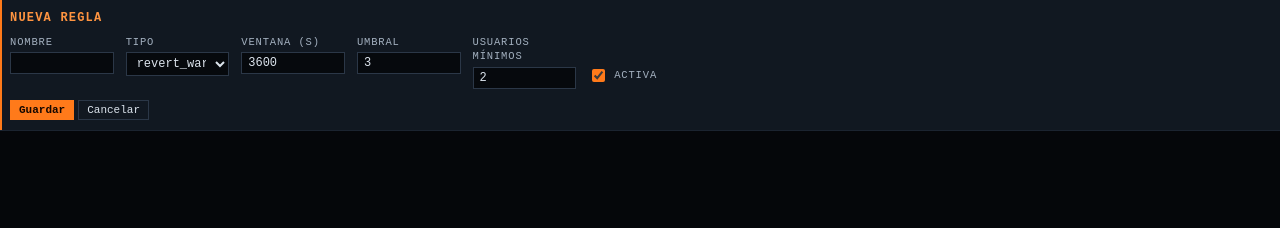
RuleForm › shows validation errors and does not submit
Replace the text in the number field labelled "Ventana (s)" with "5": (293, 64) [241,52,345,74]
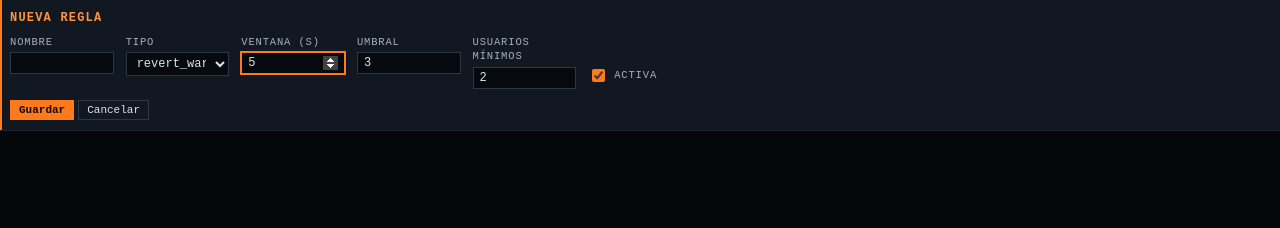
Replace the text in the number field labelled "Umbral" with "0": (409, 64) [357,52,460,74]
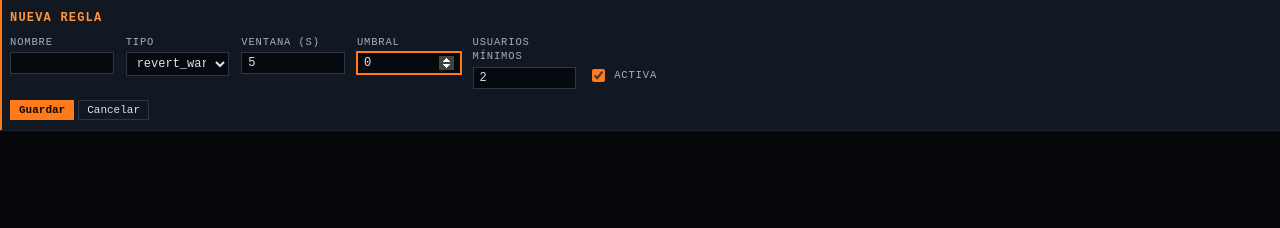
Clear the number field labelled "Usuarios mínimos": (524, 78) [472,67,576,89]
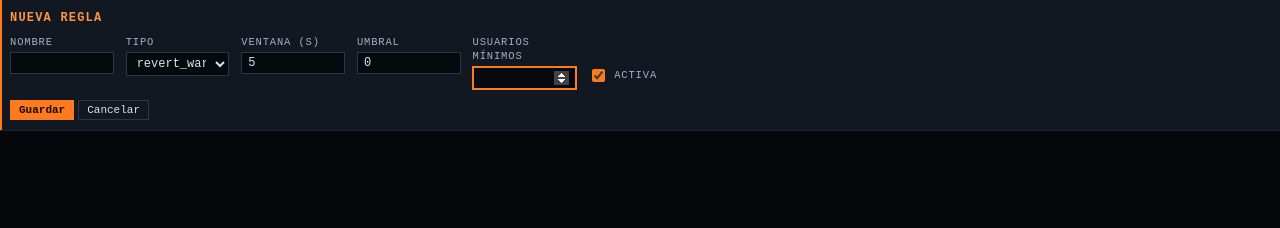
Click the button "Guardar": (42, 110) [10,100,74,120]
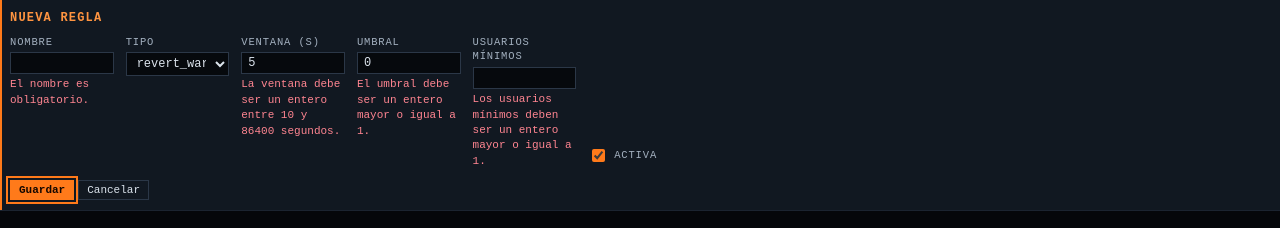
Result: the text "El nombre es obligatorio." is shown at [10,78,89,106]
Result: the text "La ventana debe ser un entero entre 10 y 86400 segundos." is shown at [241,78,345,139]
Result: the text "El umbral debe ser un entero mayor o igual a 1." is shown at [357,78,460,139]
